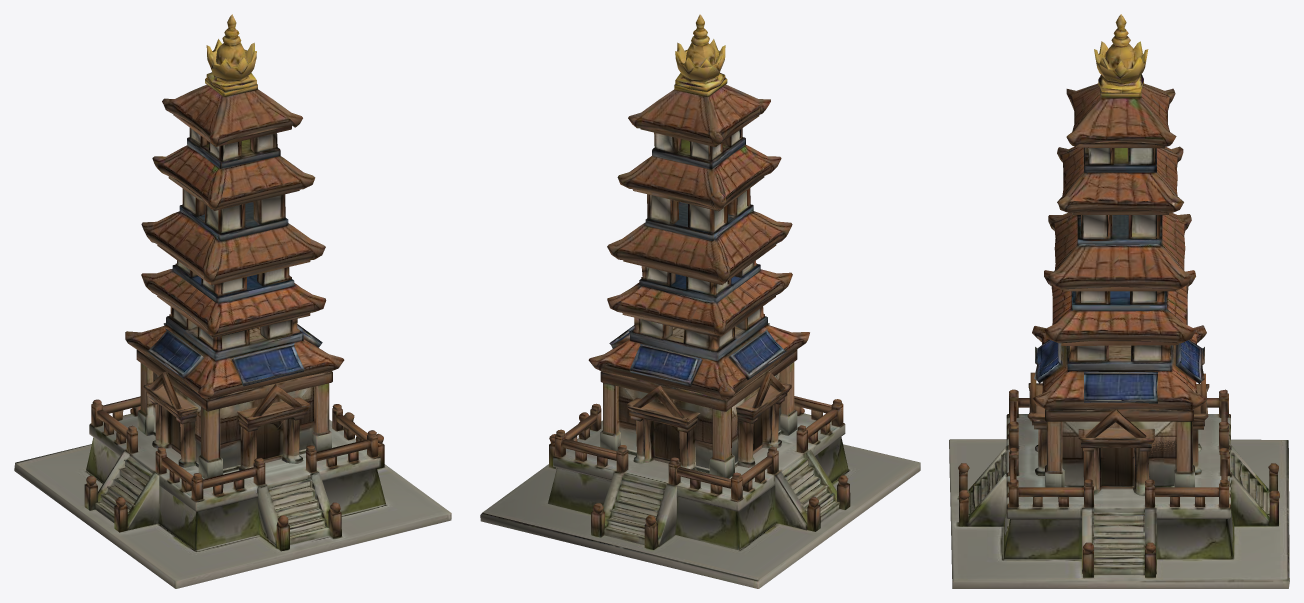
The model's file is lm_kek_lok_si.glb.
3 views of the same model, side by side, from view 1: azimuth 30°, elevation 25°; view 2: azimuth 150°, elevation 25°; view 3: azimuth 270°, elevation 25° (orthographic). The views are drawn at different scales.
Parts seen in each view (by area): view 1: Body, Trim; view 2: Body, Trim; view 3: Body, Trim.
Part boxes in pixels (left/top/right/bottom): Body: left=14, top=14, right=451, bottom=588; Trim: left=205, top=15, right=257, bottom=96; Body: left=480, top=14, right=920, bottom=588; Trim: left=674, top=14, right=727, bottom=96; Body: left=949, top=14, right=1289, bottom=588; Trim: left=1094, top=17, right=1148, bottom=98.
Bounding box in the file's own units: 18.14 × 30 × 18.38.
Materials: 2 (2 with a texture image).
